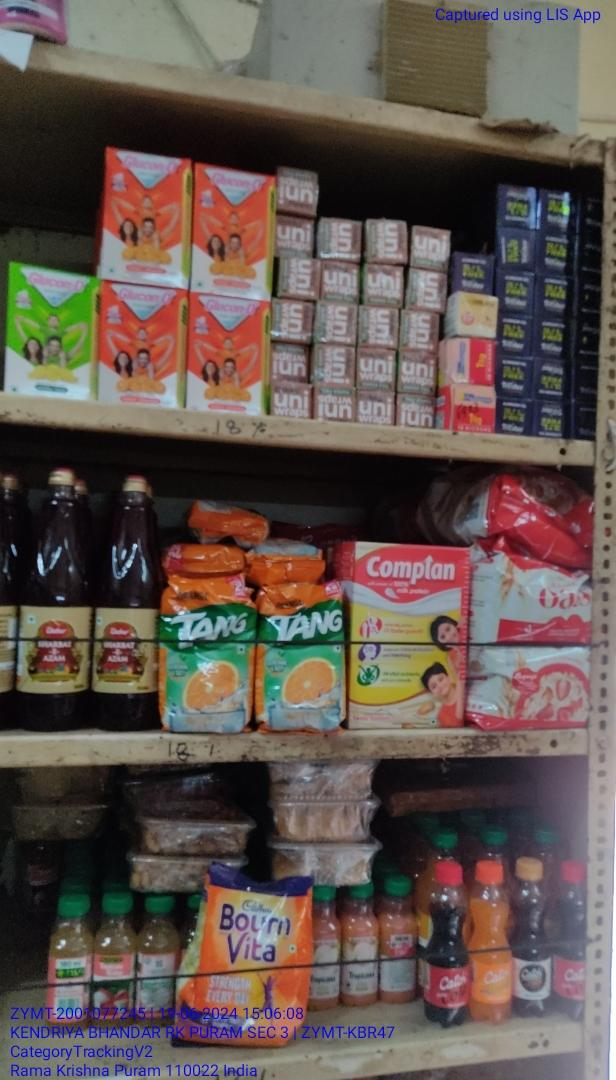COMPLAN_KESAR_BADAM_500_GMS_PACK: (351, 543, 467, 730)
